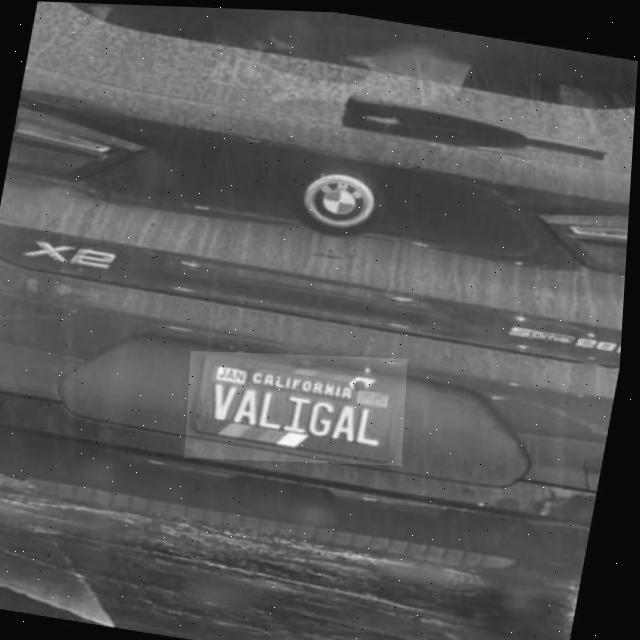LicensePlate: (192, 350, 411, 462)
